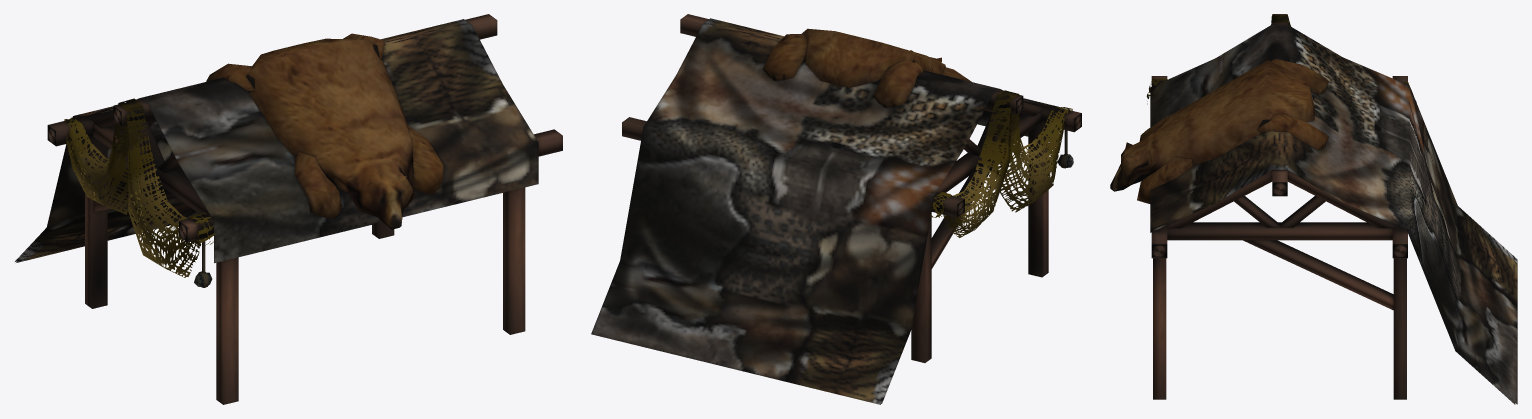
Rendered from tent_hunter.fbx.
3 views of the same model, side by side, from view 1: azimuth 30°, elevation 25°; view 2: azimuth 150°, elevation 25°; view 3: azimuth 270°, elevation 25° (orthographic). The views are drawn at different scales.
Visible parts, largest first — view 1: Hunter_shop_tent; view 2: Hunter_shop_tent; view 3: Hunter_shop_tent.
Part boxes in pixels (box(x1,y1,x2,y2)): Hunter_shop_tent: box(15, 14, 562, 404); Hunter_shop_tent: box(591, 14, 1081, 404); Hunter_shop_tent: box(1110, 14, 1517, 404).
Size of the model in its own units: 6.12 by 4.25 by 6.26.
